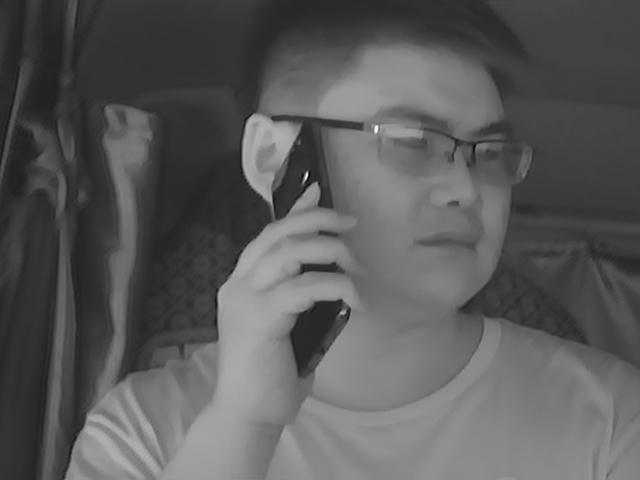hand: (214, 182, 348, 408)
